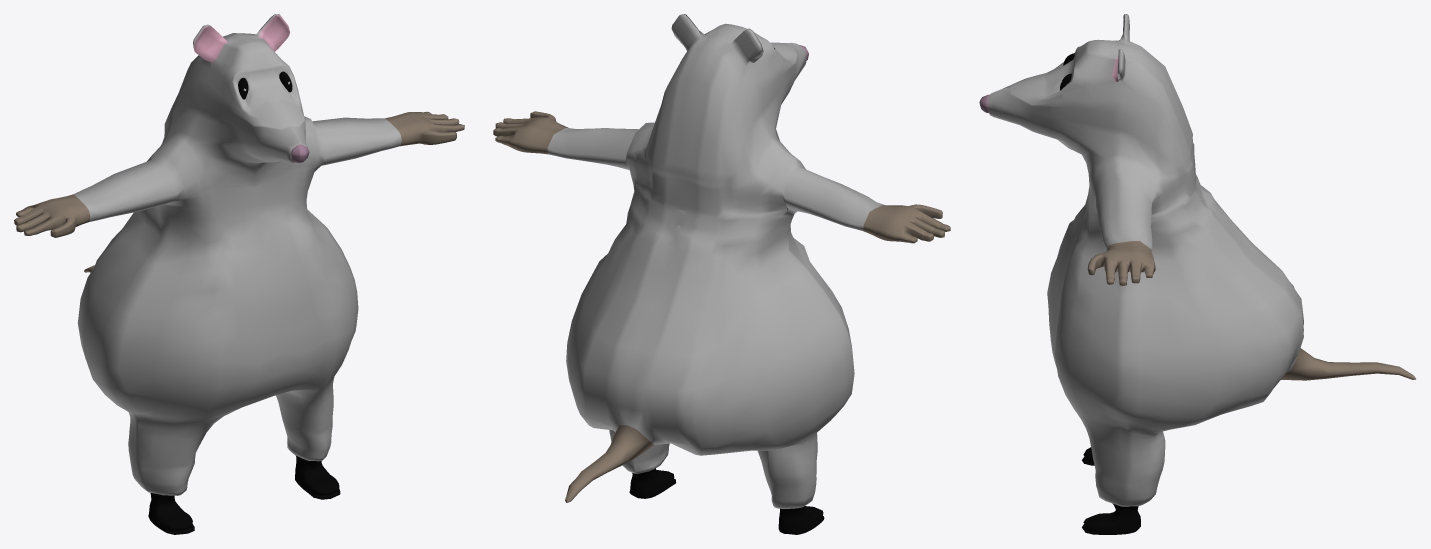
File: FatRat.fbx
3 views of the same model, side by side, from view 1: azimuth 30°, elevation 25°; view 2: azimuth 150°, elevation 25°; view 3: azimuth 270°, elevation 25° (orthographic). The views are drawn at different scales.
Parts seen in each view (by area): view 1: Rat; view 2: Rat; view 3: Rat.
Boxes of the visible parts, x1,y1,x2,y2 form: Rat: (14, 14, 464, 534); Rat: (493, 14, 950, 534); Rat: (979, 14, 1415, 534).
Size of the model in its own units: 7.8 by 8.12 by 6.91.
